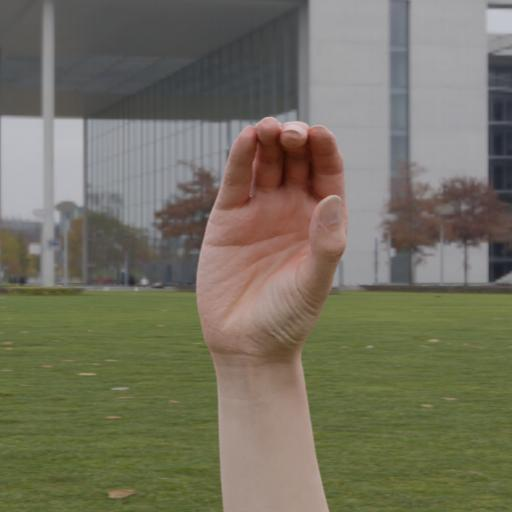C: (170, 98, 377, 378)
